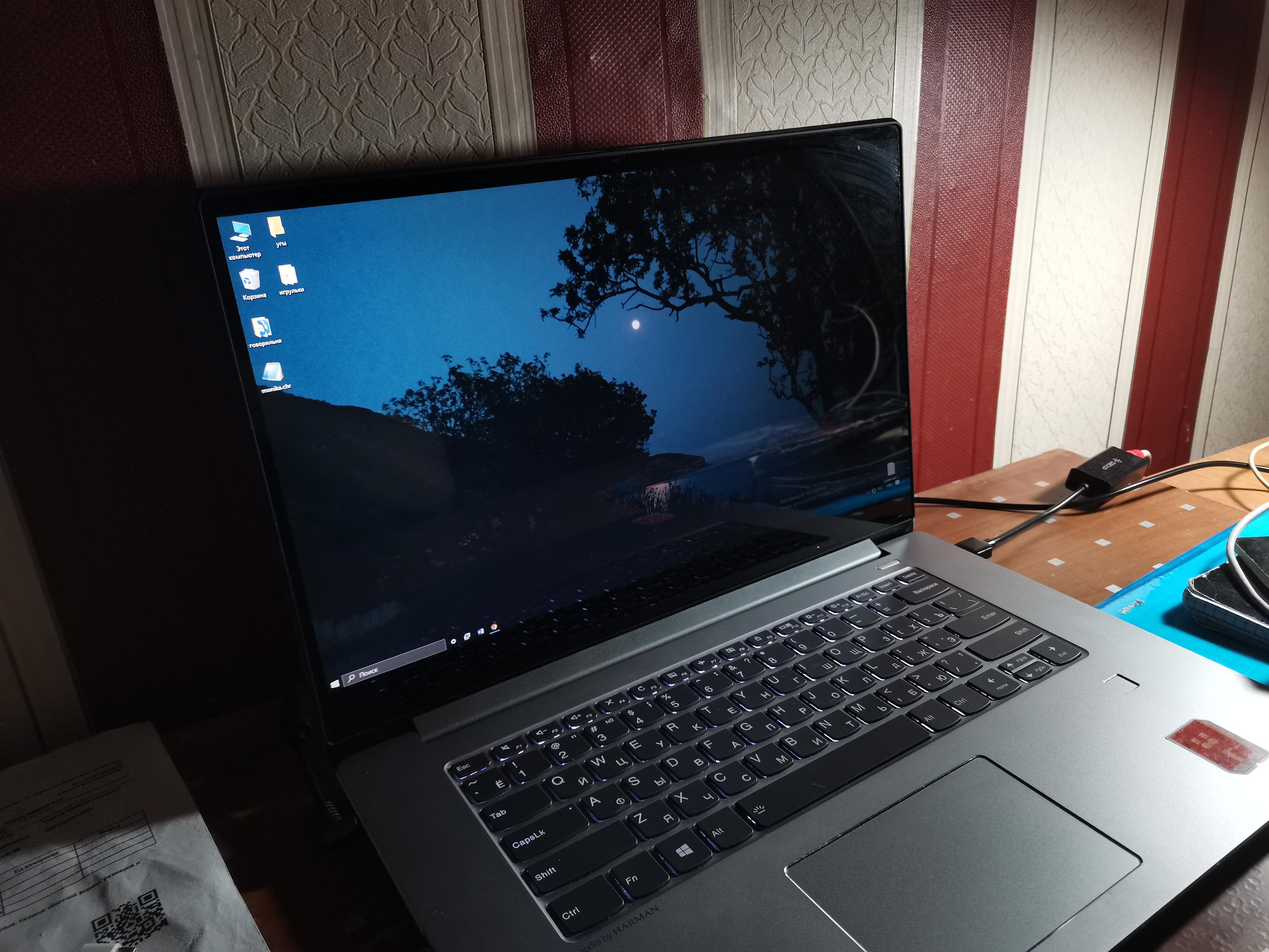monitor: (182, 103, 922, 771)
